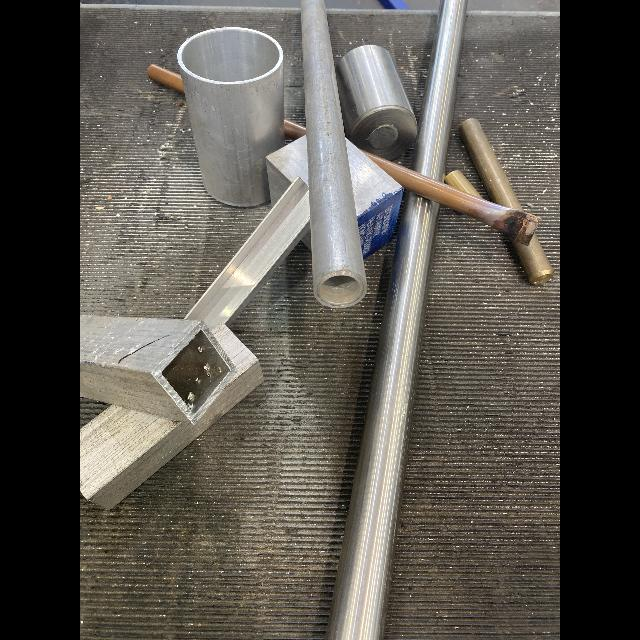Aluminium: (80, 315, 263, 508), (301, 0, 367, 308), (177, 27, 284, 207), (185, 178, 310, 330), (346, 138, 402, 218), (266, 134, 308, 207), (301, 229, 311, 251)
Brass: (459, 119, 522, 210), (512, 232, 553, 284), (445, 170, 483, 199)
Copper: (359, 149, 541, 246), (147, 64, 184, 93), (285, 118, 306, 140)
Stainless Steel: (326, 192, 439, 640), (411, 0, 467, 182), (336, 45, 417, 160)
